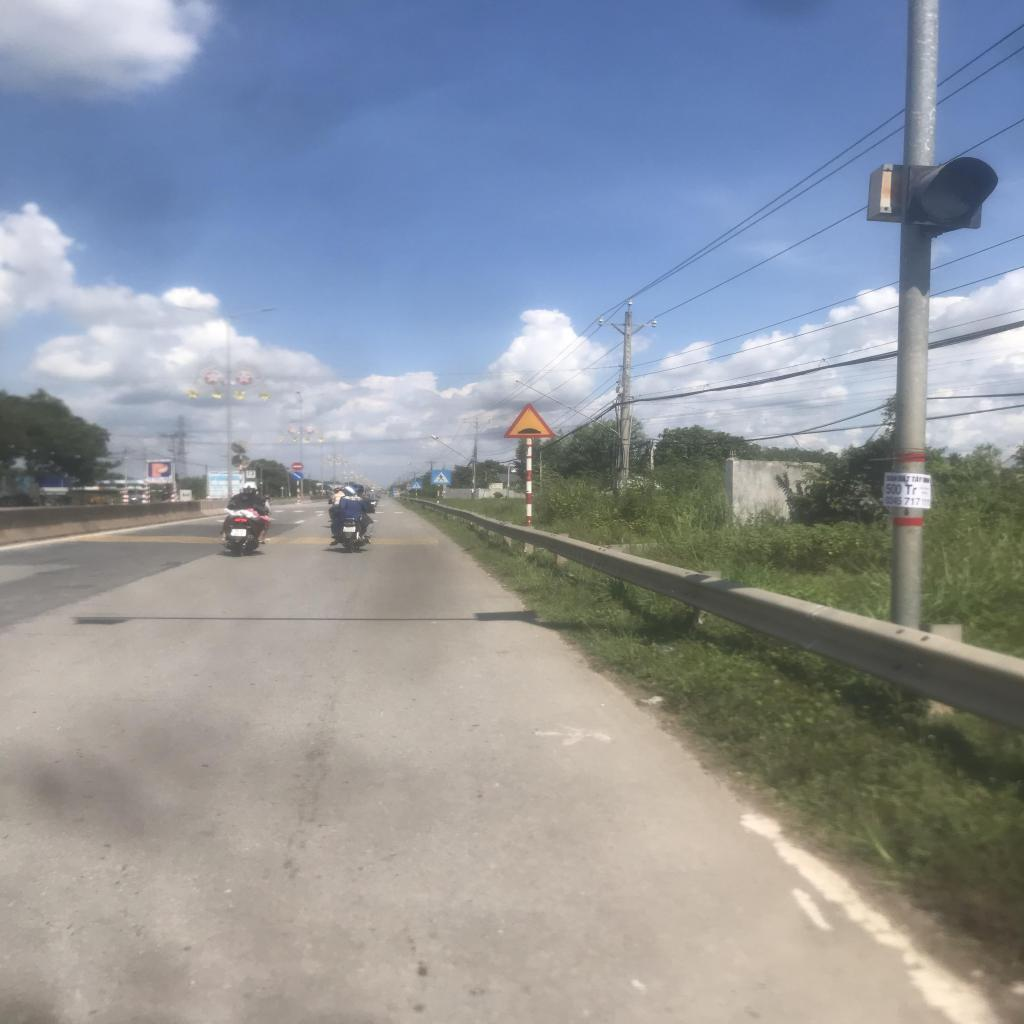cam_xe_di_nguoc_chieu: (292, 462, 303, 470)
duong_co_song_map_mo_nhan_tao: (503, 402, 557, 437)
duong_nguoi_di_bo_sang_ngang: (431, 470, 450, 484), (410, 481, 422, 489)
huong_phai_di_vuot_chuong_ngai_vat_phai: (292, 471, 302, 481)
